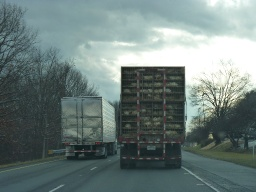truck: (115, 61, 190, 175), (58, 89, 117, 160)
